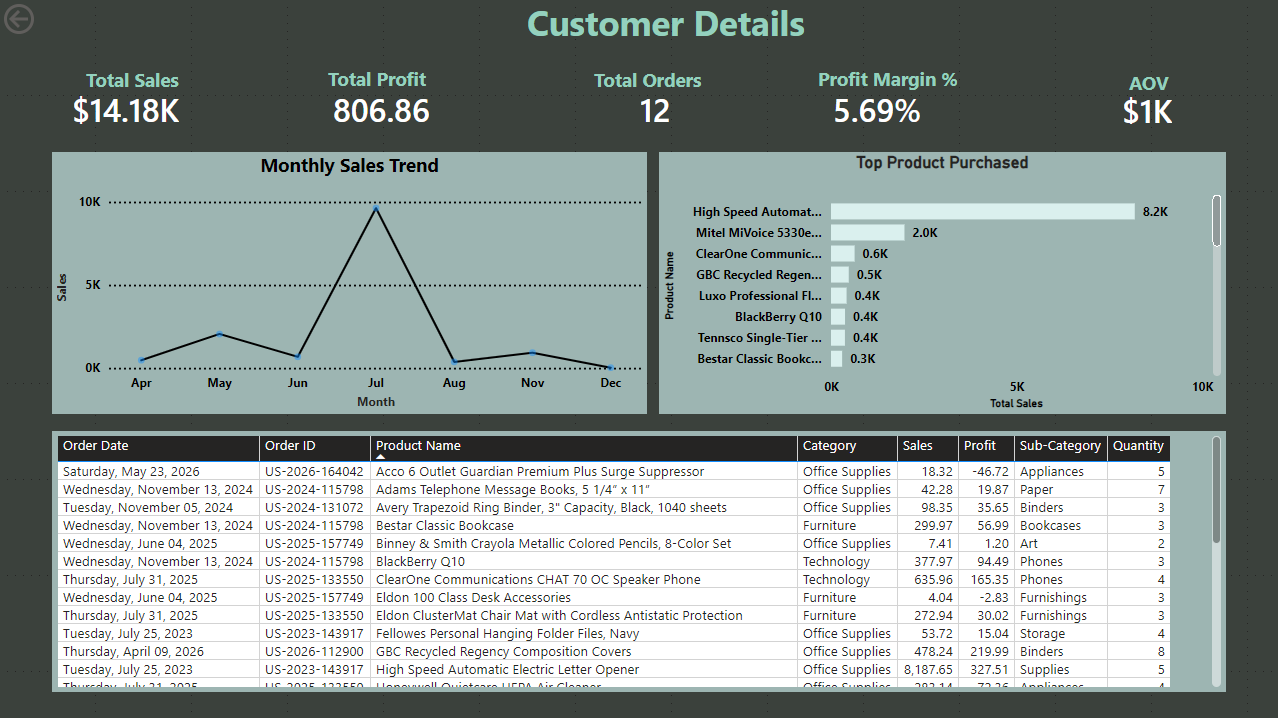

The page's visual inventory and layout, read from the dashboard file:
{"tool":"powerbi","page":{"name":"Customer Details","canvas":[1280,720],"ordinal":5},"visuals":[{"type":"textbox","title":"Customer Details","box":[522.6,0,291,45.5],"z":0},{"type":"textbox","title":"Total Sales","box":[82.1,68.3,104.1,25.3],"z":1000},{"type":"textbox","title":"Total Profit","box":[323.6,67.3,114.8,25.3],"z":2000},{"type":"textbox","title":"Total Orders","box":[589.9,68.3,155.4,24.7],"z":3000},{"type":"textbox","title":"Profit Margin %","box":[813.5,67.3,154.4,25.7],"z":4000},{"type":"cardVisual","title":"Total Sales","fields":{"Data":["Measures (2).Total Sales"]},"box":[43.5,74.2,196.9,67.3],"z":5000},{"type":"cardVisual","title":"Total Sales","fields":{"Data":["Measures (2).Total Profit"]},"box":[304.8,76.2,177.2,63.3],"z":6000},{"type":"cardVisual","title":"Total Sales","fields":{"Data":["Measures (2).Total Orders"]},"box":[611.6,76.2,112.8,64.3],"z":7000},{"type":"cardVisual","title":"Total Sales","fields":{"Data":["Measures (2).Profit Margin %"]},"box":[804.6,75.2,171.2,65.3],"z":8000},{"type":"textbox","title":"AOV","box":[1125.3,71.3,51.5,25.7],"z":15000},{"type":"cardVisual","title":"Total Sales","fields":{"Data":["Measures (2).Average Order Value"]},"box":[1093.6,76.2,165.3,65.3],"z":18000},{"type":"actionButton","box":[0,0,100,40],"z":20001},{"type":"lineChart","title":"Monthly Sales Trend","fields":{"Category":["Date.Month Short"],"Y":["Measures (2).Total Sales"]},"box":[53.4,153.4,594.8,261.3],"z":20002},{"type":"tableEx","fields":{"Values":["Orders.Order Date","Orders.Order ID","Orders.Product Name","Orders.Category","Orders.Sales","Orders.Profit","Orders.Sub-Category","Orders.Quantity"]},"box":[53.4,431.5,1173.8,261.3],"z":20003},{"type":"clusteredBarChart","title":"Top Product Purchased","fields":{"Y":["Measures (2).Total Sales"],"Category":["Orders.Product Name"]},"box":[660.1,153.4,567.1,261.6],"z":20004}]}

Visuals, with their boxes in screenshot pixels (x1, y1, x2, y2), scaled from the page's 1280x720 canvas onto the 1278x718 screenshot:
"Customer Details" textbox: x1=522, y1=0, x2=812, y2=45
"Total Sales" textbox: x1=82, y1=68, x2=186, y2=93
"Total Profit" textbox: x1=323, y1=67, x2=438, y2=92
"Total Orders" textbox: x1=589, y1=68, x2=744, y2=93
"Profit Margin %" textbox: x1=812, y1=67, x2=966, y2=93
"Total Sales" cardVisual: x1=43, y1=74, x2=240, y2=141
"Total Sales" cardVisual: x1=304, y1=76, x2=481, y2=139
"Total Sales" cardVisual: x1=611, y1=76, x2=723, y2=140
"Total Sales" cardVisual: x1=803, y1=75, x2=974, y2=140
"AOV" textbox: x1=1124, y1=71, x2=1175, y2=97
"Total Sales" cardVisual: x1=1092, y1=76, x2=1257, y2=141
actionButton: x1=0, y1=0, x2=100, y2=40
"Monthly Sales Trend" lineChart: x1=53, y1=153, x2=647, y2=414
tableEx - Orders.Order Date x Orders.Order ID: x1=53, y1=430, x2=1225, y2=691
"Top Product Purchased" clusteredBarChart: x1=659, y1=153, x2=1225, y2=414
